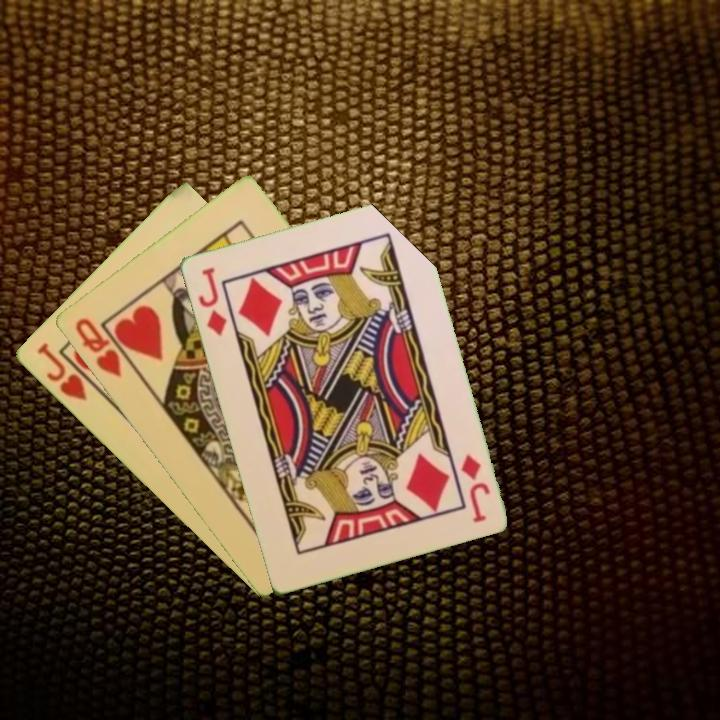Jd: (194, 263, 230, 339), (457, 450, 493, 525)
Jh: (32, 339, 103, 405)
Qh: (71, 314, 136, 380)
